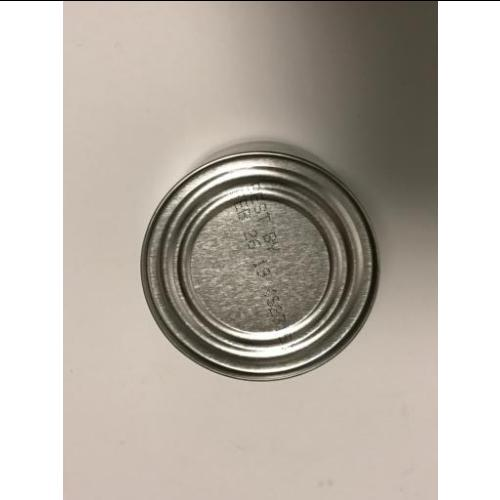metal: (138, 152, 380, 381)
